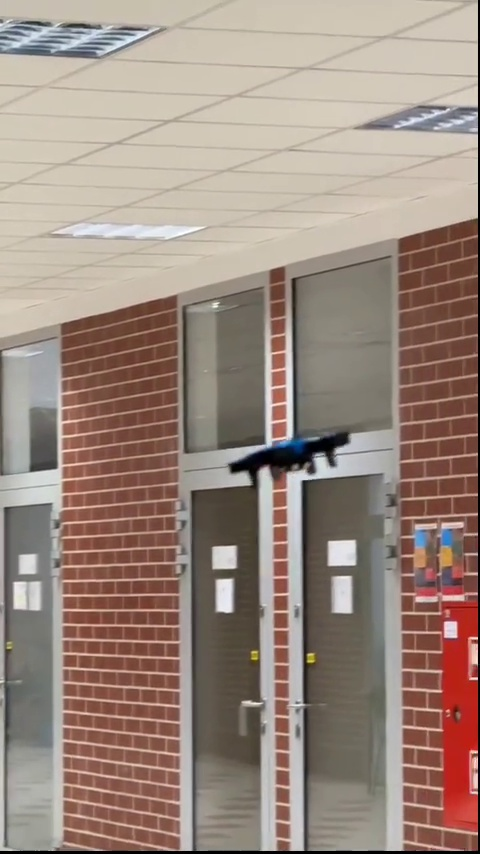drone: (229, 433, 352, 480)
